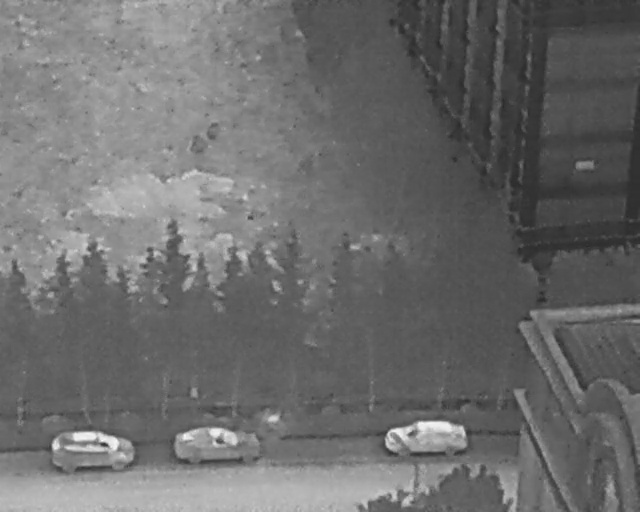Car: (53, 431, 134, 471), (383, 419, 469, 456), (173, 428, 261, 464)
